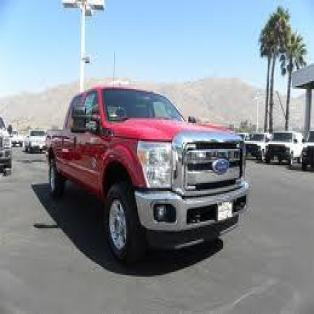Auto: (46, 87, 245, 264)
